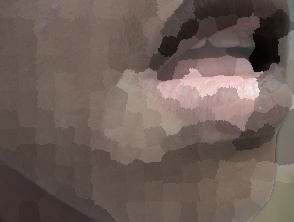vitiligo: (93, 65, 272, 177)
